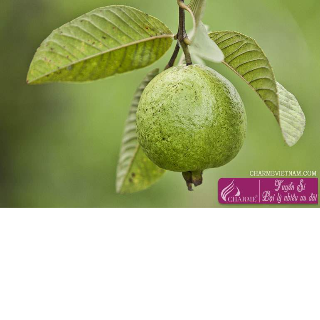oi: (134, 62, 252, 187)
